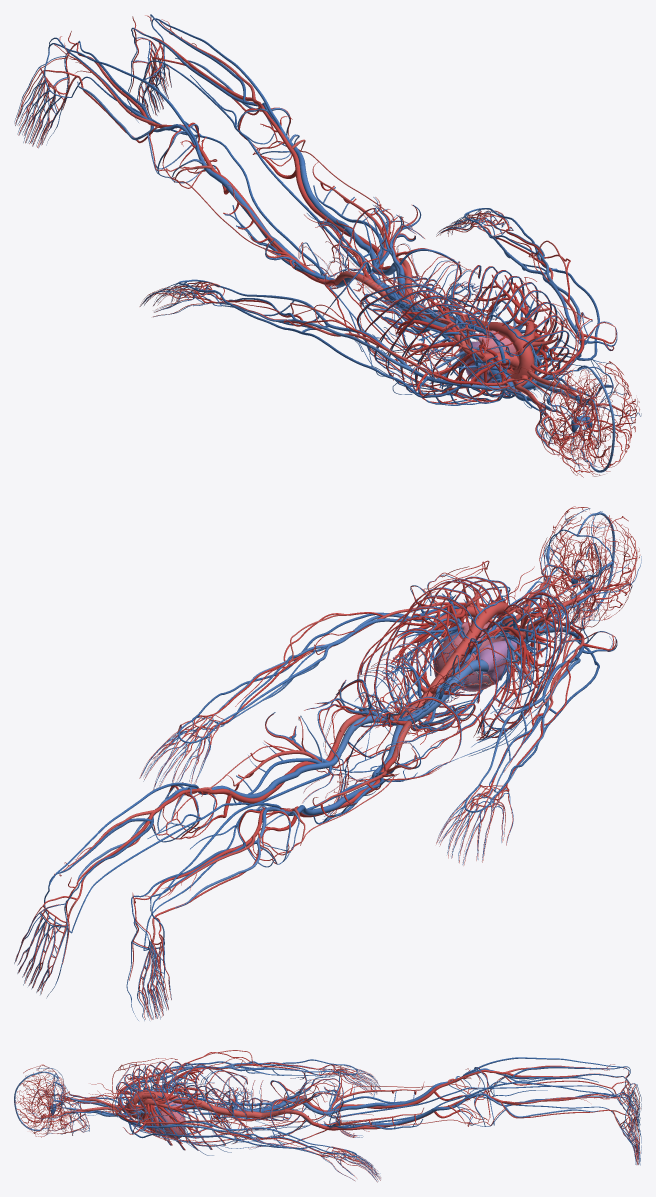
The model's file is cardiovascular.glb.
3 views of the same model, one above another, from view 1: azimuth 30°, elevation 25°; view 2: azimuth 150°, elevation 25°; view 3: azimuth 270°, elevation 25° (orthographic). The views are drawn at different scales.
Parts seen in each view (by area): view 1: 右肋间上静脉, 右侧肋间后动脉, 左肋间上静脉, 左侧肋间后动脉, 左侧大隐静脉, 右侧头静脉, 左侧股静脉, 右侧大隐静脉; view 2: 右侧肋间后动脉, 左侧肋间后动脉, 右肋间上静脉, 左肋间上静脉, 左侧大隐静脉, 右心房, 胸主动脉, 左侧股静脉; view 3: 左肋间上静脉, 左侧肋间后动脉, 右肋间上静脉, 右侧肋间后动脉, 右侧大隐静脉, 左侧大隐静脉, 右侧股静脉, 左侧头静脉, 腹主动脉, 左心室, 右侧贵要静脉, 左侧小隐静脉 (+17 smaller).
Part boxes in pixels (x1,y1,x2,y2): 右肋间上静脉: (358,283,513,405); 右侧肋间后动脉: (356,283,526,404); 左肋间上静脉: (465,265,569,395); 左侧肋间后动脉: (462,265,568,394); 左侧大隐静脉: (143,60,372,273); 右侧头静脉: (192,287,461,397); 左侧股静脉: (300,165,384,275); 右侧大隐静脉: (71,76,327,276); 右侧肋间后动脉: (454,592,568,740); 左侧肋间后动脉: (357,577,508,718); 右肋间上静脉: (460,591,569,742); 左肋间上静脉: (358,576,528,718); 左侧大隐静脉: (71,766,331,932); 右心房: (476,640,516,684); 胸主动脉: (453,601,504,659); 左侧股静脉: (228,751,341,798); 左肋间上静脉: (114,1084,246,1150); 左侧肋间后动脉: (125,1084,248,1150); 右肋间上静脉: (116,1061,247,1134); 右侧肋间后动脉: (125,1061,248,1132); 右侧大隐静脉: (328,1077,621,1118); 左侧大隐静脉: (342,1090,620,1126); 右侧股静脉: (316,1087,432,1115); 左侧头静脉: (128,1122,336,1153); 腹主动脉: (196,1099,261,1118); 左心室: (158,1105,185,1138); 右侧贵要静脉: (160,1065,331,1080); 左侧小隐静脉: (462,1082,630,1111).
Bounding box in the file's own units: 0.9779 × 0.3667 × 2.5.
